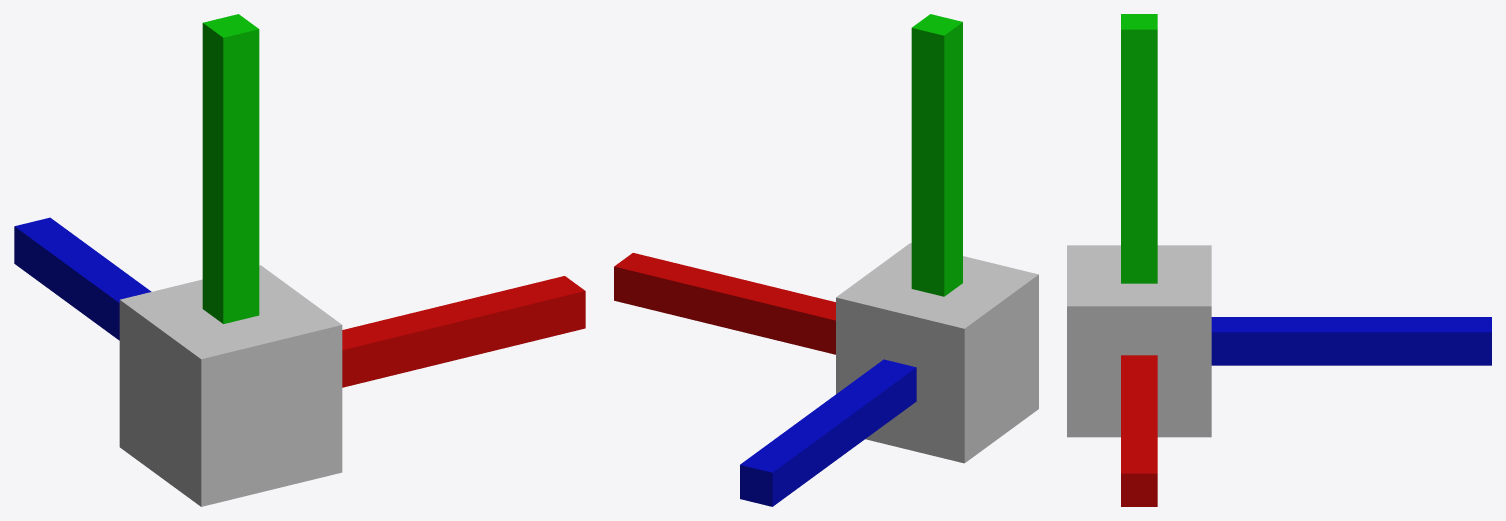
File: frame.obj
3 renders of one model, left to right at view 1: azimuth 30°, elevation 25°; view 2: azimuth 150°, elevation 25°; view 3: azimuth 270°, elevation 25°, orthographic. The views are drawn at different scales.
Parts seen in each view (by area): view 1: Cube; view 2: Cube; view 3: Cube.
Boxes of the visible parts, x1,y1,x2,y2 form: Cube: (14, 14, 585, 506); Cube: (614, 14, 1038, 506); Cube: (1067, 14, 1491, 506).
Size of the model in its own units: 5.88 by 5.88 by 5.88.
